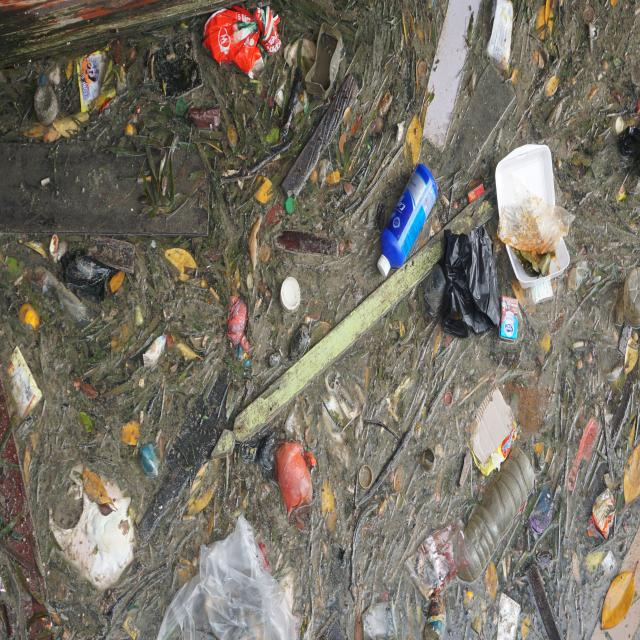Botol Plastik: (452, 450, 539, 587), (373, 160, 441, 283), (30, 79, 65, 130), (280, 273, 306, 318)
Bungkus Makanan: (485, 130, 577, 310), (460, 382, 521, 474)
Kantong Plastik: (155, 519, 301, 640), (49, 458, 141, 595), (429, 225, 503, 351), (275, 434, 318, 519)
